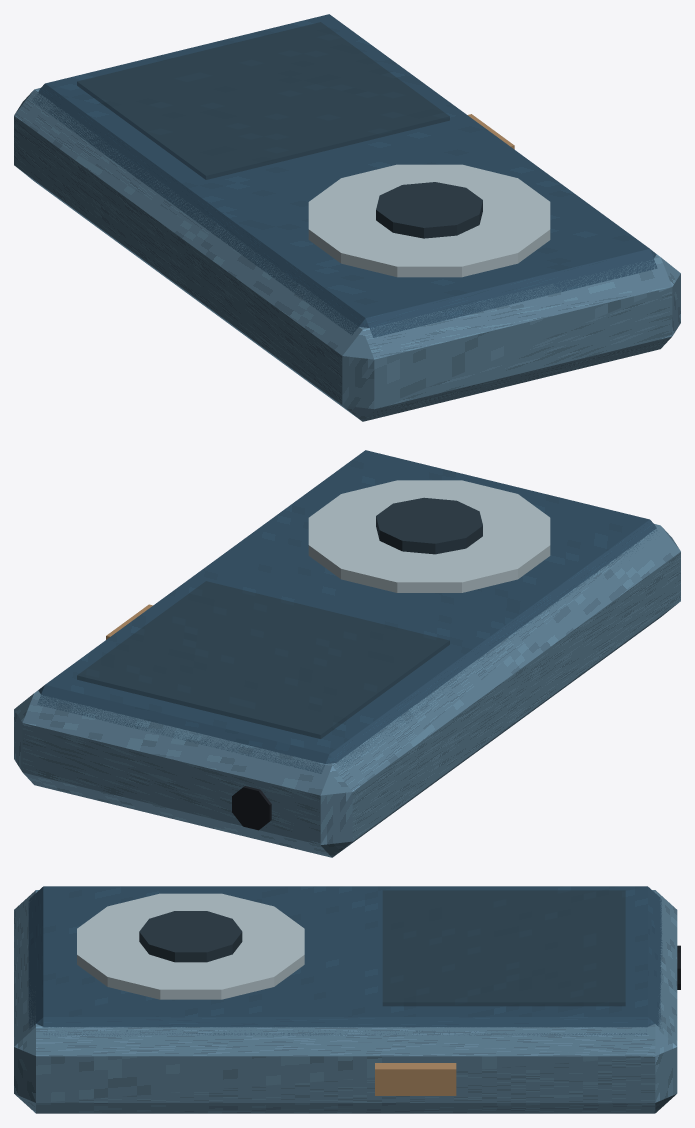
3 views of the same model, one above another, from view 1: azimuth 30°, elevation 25°; view 2: azimuth 150°, elevation 25°; view 3: azimuth 270°, elevation 25° (orthographic). The views are drawn at different scales.
Visible parts, largest first — view 1: block_faceplate, block_aluminium shell, block_LCD, block_control wheel, block_play button; view 2: block_faceplate, block_aluminium shell, block_LCD, block_control wheel, block_play button, block_headphone socket; view 3: block_faceplate, block_aluminium shell, block_LCD, block_control wheel, block_play button, block_hold switch.
Boxes of the visible parts, box(x1,y1,x2,y2) form: block_faceplate: box(32, 14, 657, 337); block_aluminium shell: box(14, 88, 680, 421); block_LCD: box(77, 22, 449, 179); block_control wheel: box(308, 164, 550, 277); block_play button: box(376, 182, 482, 238); block_faceplate: box(37, 450, 657, 773); block_aluminium shell: box(14, 524, 680, 857); block_LCD: box(77, 581, 449, 738); block_control wheel: box(308, 480, 550, 592); block_play button: box(376, 497, 482, 554); block_headphone socket: box(232, 786, 271, 830); block_faceplate: box(28, 886, 662, 1036); block_aluminium shell: box(14, 890, 677, 1113); block_LCD: box(382, 890, 625, 1006); block_control wheel: box(77, 893, 304, 999); block_play button: box(139, 911, 242, 962); block_hold switch: box(375, 1063, 456, 1095).
Size of the model in its own units: 0.052 by 0.017 by 0.0905.
2 materials, 2 textured.
